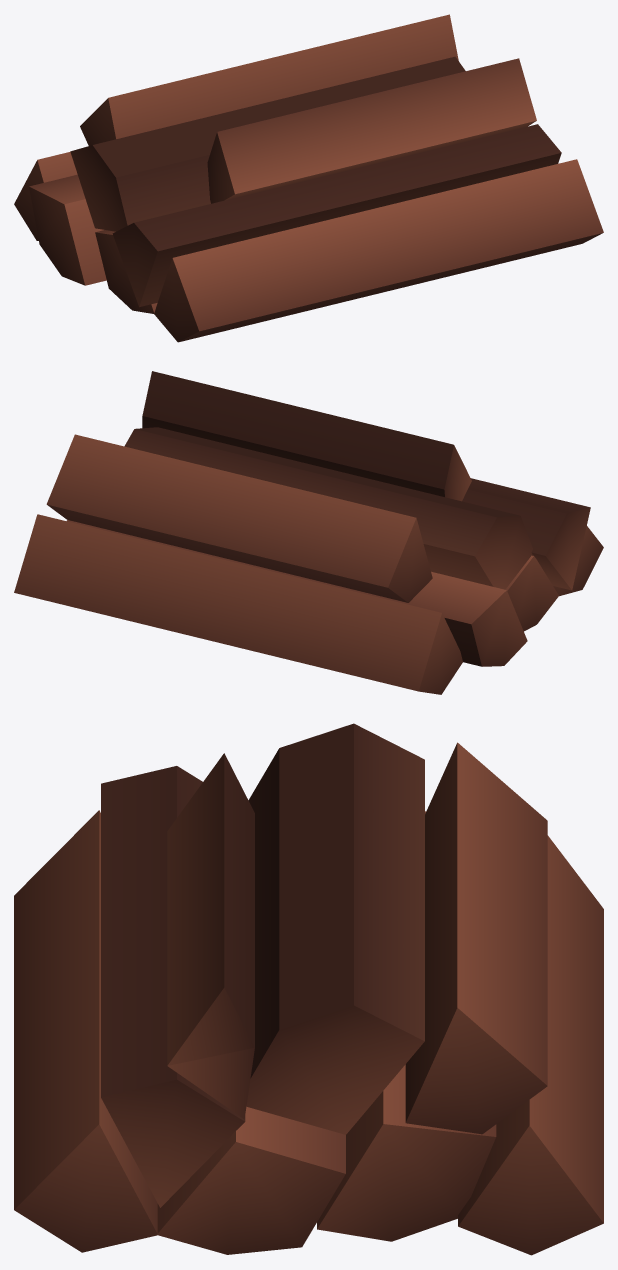
Rendered from farmpack2023logpile.fbx.
3 views of the same model, one above another, from view 1: azimuth 30°, elevation 25°; view 2: azimuth 150°, elevation 25°; view 3: azimuth 270°, elevation 25° (orthographic). The views are drawn at different scales.
Visible parts, largest first — view 1: farmpack2023logpile; view 2: farmpack2023logpile; view 3: farmpack2023logpile.
Boxes of the visible parts, box(x1,y1,x2,y2) form: farmpack2023logpile: box(14, 14, 603, 342); farmpack2023logpile: box(14, 371, 603, 694); farmpack2023logpile: box(14, 723, 603, 1255).
Size of the model in its own units: 1.43 by 1.88 by 0.6754.
